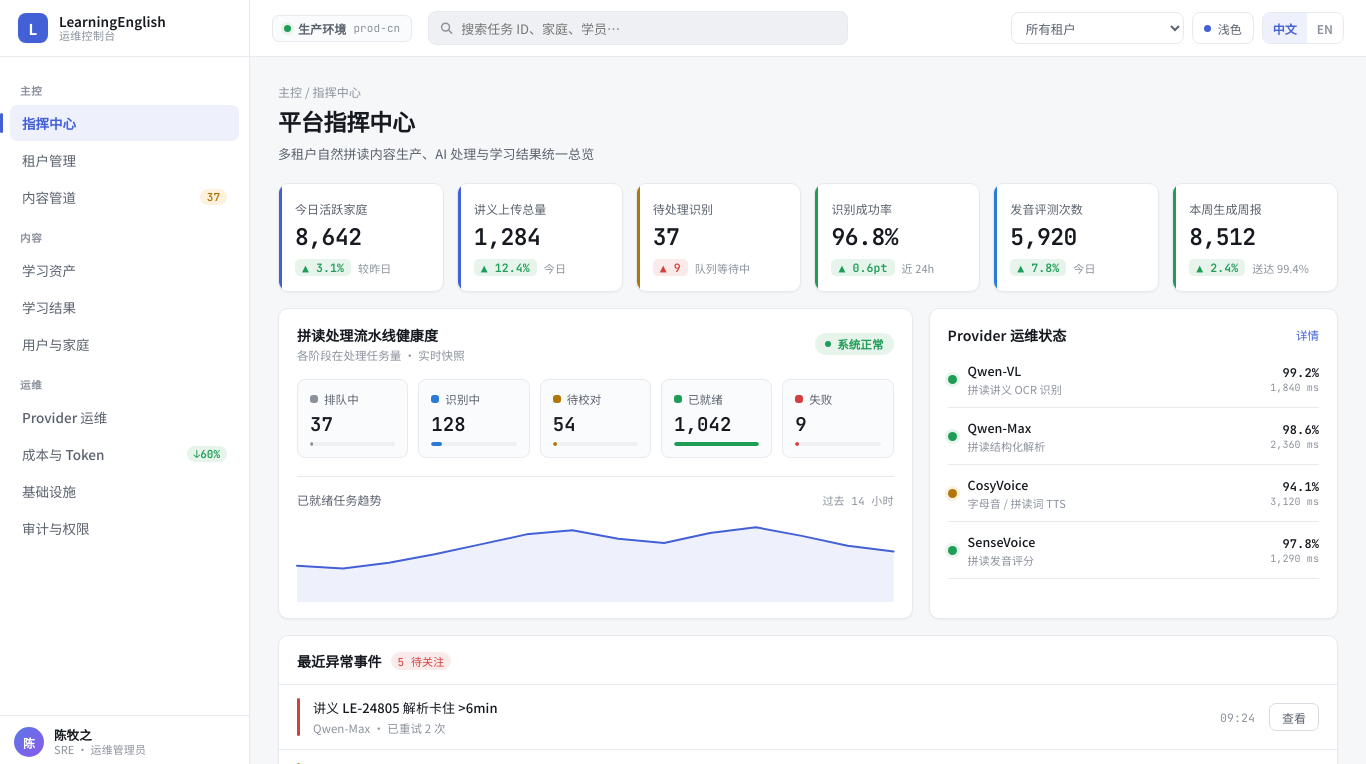
interactions › recomputes projected cost when a lever is toggled off
The width and height of the screenshot is (1366, 764).
Step 1. Click the button "成本与 Token ↓60%" → click(124, 454), box [10,436,239,472]
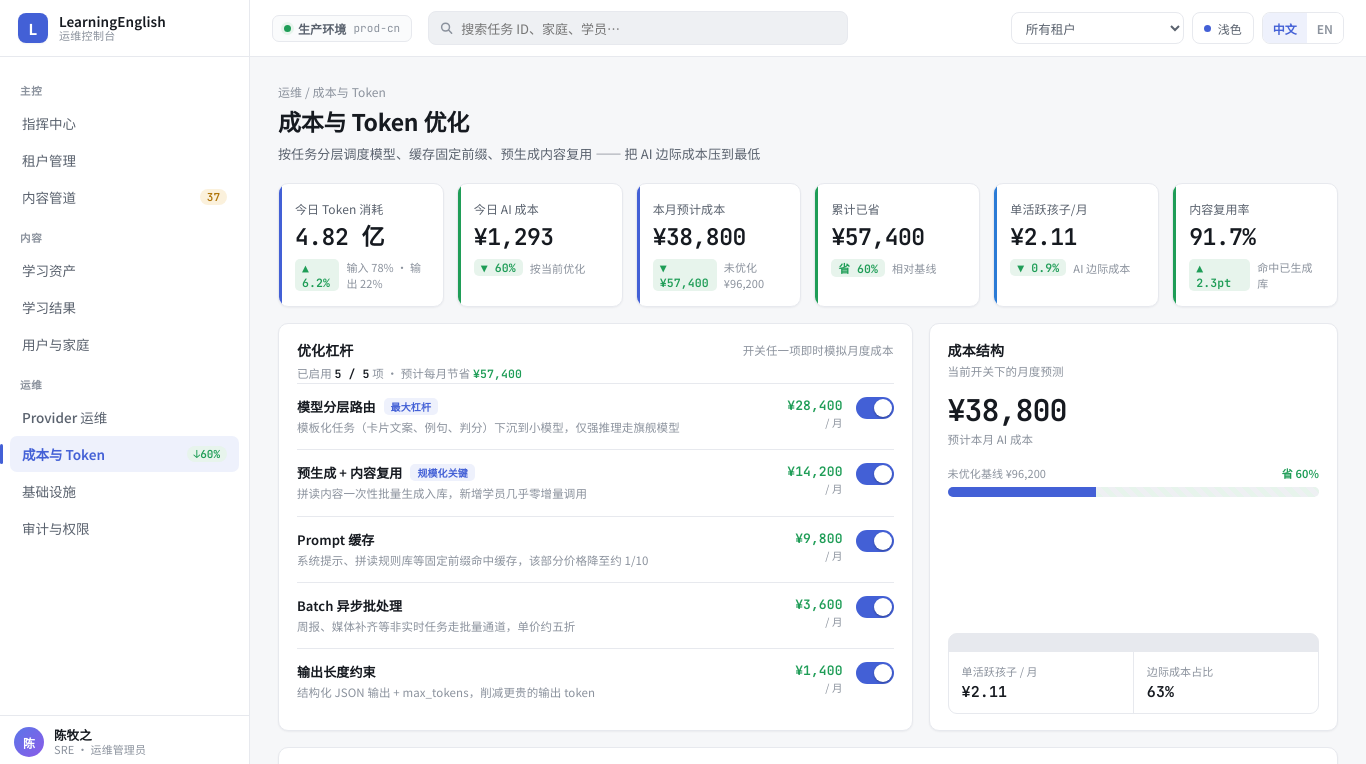
Now the text "¥38,800" below "本月预计成本" is shown, box [653,222,746,252]
Note: Toggle the first lever (tier, ¥28,400) off → projected 67,200.
Step 2. Click the switch named "模型分层路由" → click(875, 408), box [856,397,894,419]
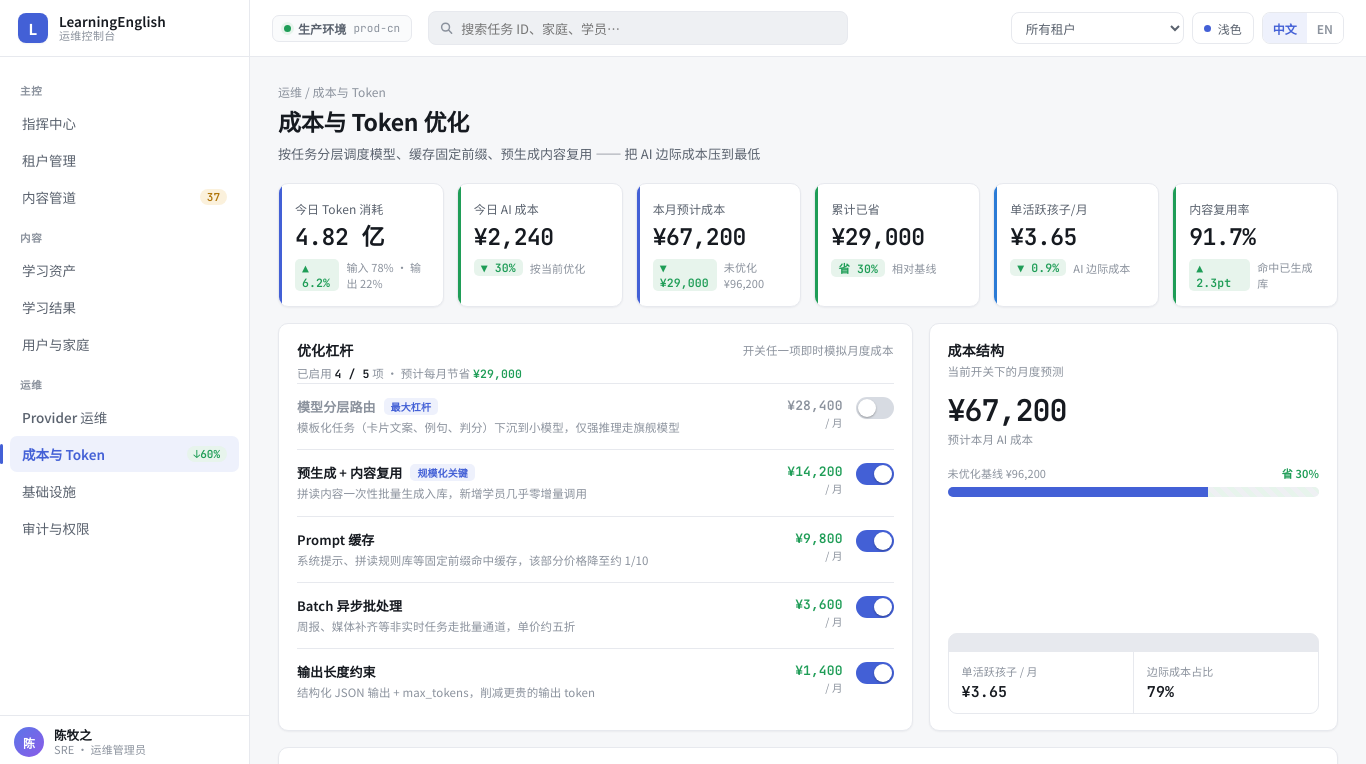
Now the text "¥67,200" below "本月预计成本" is shown, box [653,222,746,252]
